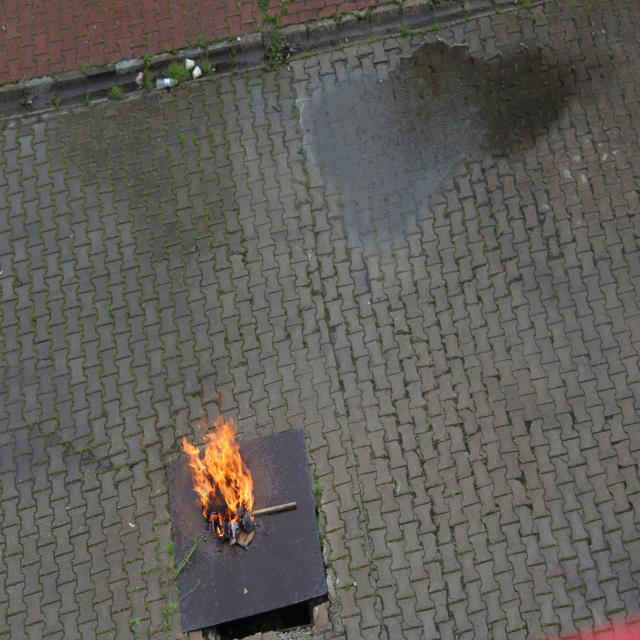fire: (172, 411, 260, 539)
